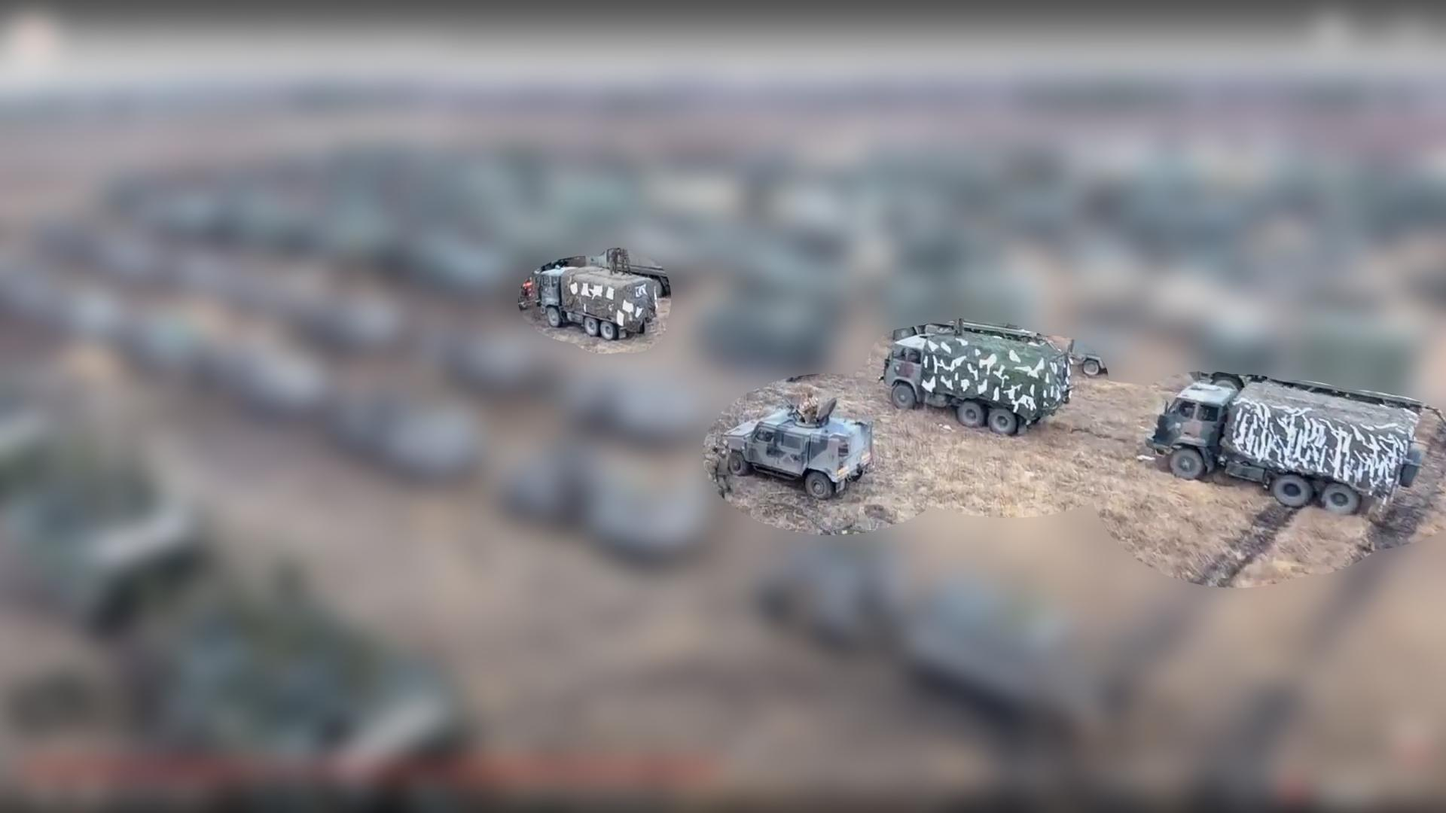armored_car: (715, 397, 871, 498)
truck: (1143, 379, 1426, 521), (876, 327, 1074, 440), (533, 264, 661, 341)
